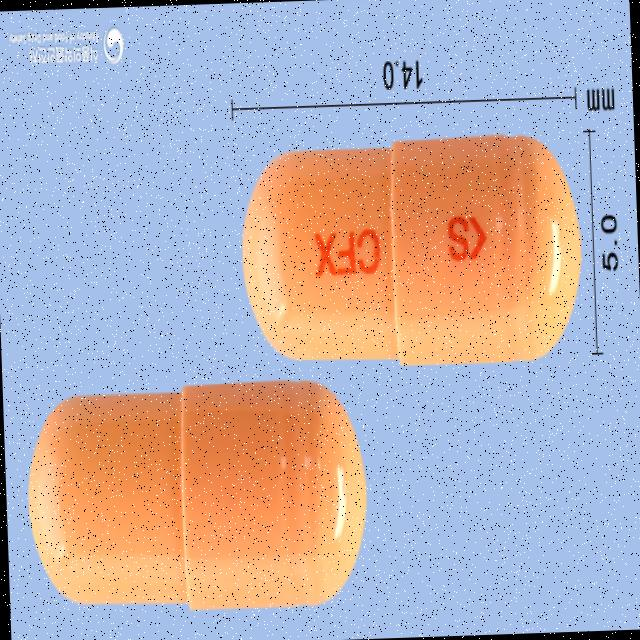Supric Cap: (238, 133, 585, 374)
